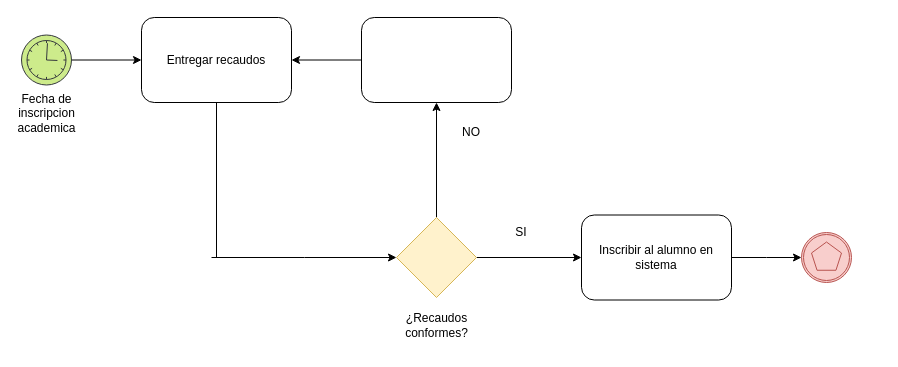
The diagram is 898 pixels wide and 367 high, and some of its shapes have lost their labels. Each missing label, with the centre of its shape:
Alumno Inscrito y notas actualizadas: [826,257]
Conseguir documentos faltantes: [436,59]
